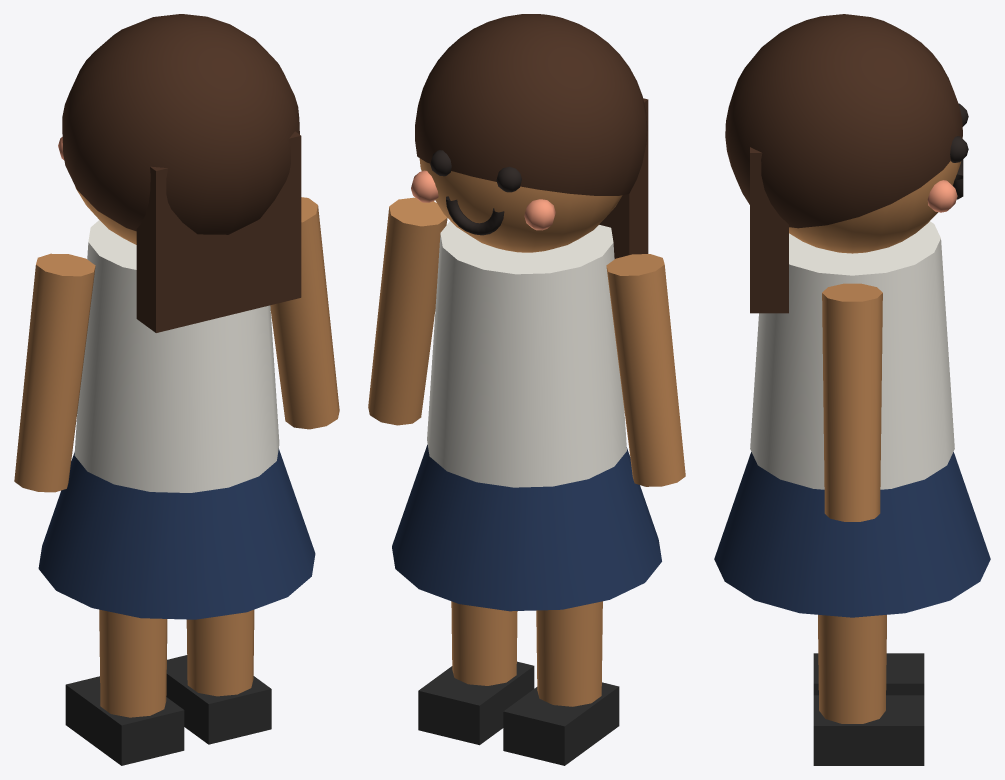
File: visitor_6.fbx
The picture shows the model from 3 angles, left to right: view 1: azimuth 30°, elevation 25°; view 2: azimuth 150°, elevation 25°; view 3: azimuth 270°, elevation 25°; orthographic projection. The views are drawn at different scales.
Visible parts, largest first — view 1: M__visitor_6-body, M__visitor_6-armL, M__visitor_6-shinL, M__visitor_6-shinR, M__visitor_6-armR, M__visitor_6-legL; view 2: M__visitor_6-body, M__visitor_6-armL, M__visitor_6-armR, M__visitor_6-shinL, M__visitor_6-shinR, M__visitor_6-legL; view 3: M__visitor_6-body, M__visitor_6-armR, M__visitor_6-shinR, M__visitor_6-shinL, M__visitor_6-legR.
Boxes of the visible parts, bbox=[...] form: M__visitor_6-body: bbox=[38, 14, 315, 619]; M__visitor_6-armL: bbox=[14, 253, 95, 492]; M__visitor_6-shinL: bbox=[65, 615, 184, 765]; M__visitor_6-shinR: bbox=[166, 610, 271, 744]; M__visitor_6-armR: bbox=[270, 197, 339, 429]; M__visitor_6-legL: bbox=[99, 609, 163, 626]; M__visitor_6-body: bbox=[392, 14, 661, 611]; M__visitor_6-armL: bbox=[606, 254, 685, 486]; M__visitor_6-armR: bbox=[368, 197, 447, 425]; M__visitor_6-shinL: bbox=[503, 607, 619, 765]; M__visitor_6-shinR: bbox=[418, 601, 534, 745]; M__visitor_6-legL: bbox=[540, 601, 602, 618]; M__visitor_6-body: bbox=[714, 14, 990, 617]; M__visitor_6-armR: bbox=[822, 283, 882, 521]; M__visitor_6-shinR: bbox=[813, 621, 924, 765]; M__visitor_6-shinL: bbox=[813, 653, 924, 695]; M__visitor_6-legR: bbox=[818, 615, 886, 634].
Bounding box in the file's own units: 0.6547 × 1.4 × 0.5.
